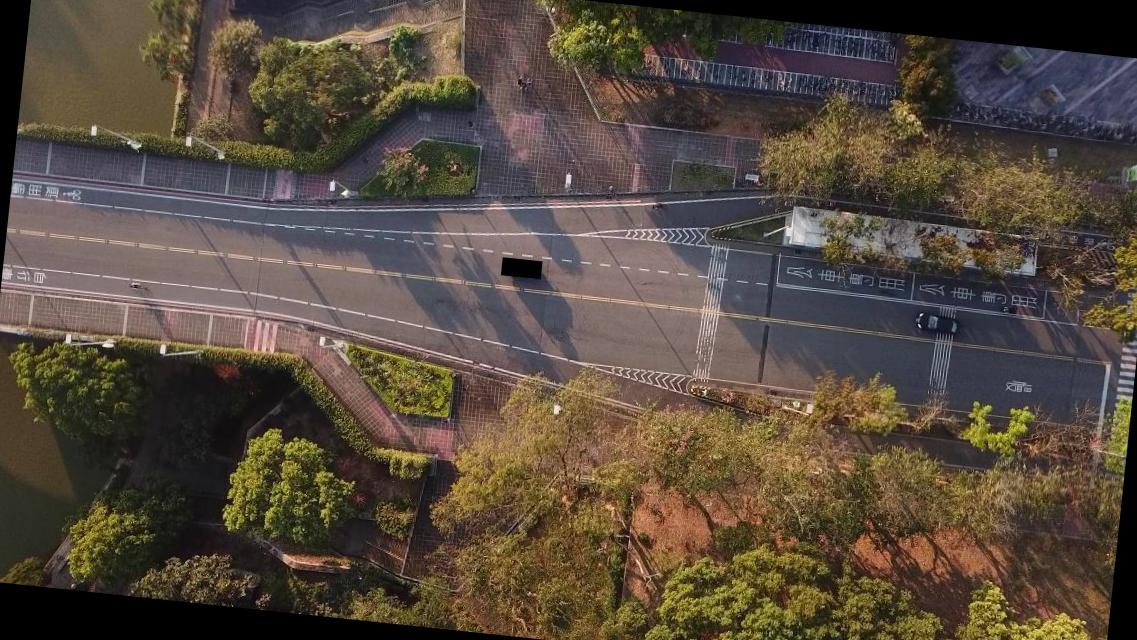vehicle: (914, 311, 960, 334)
